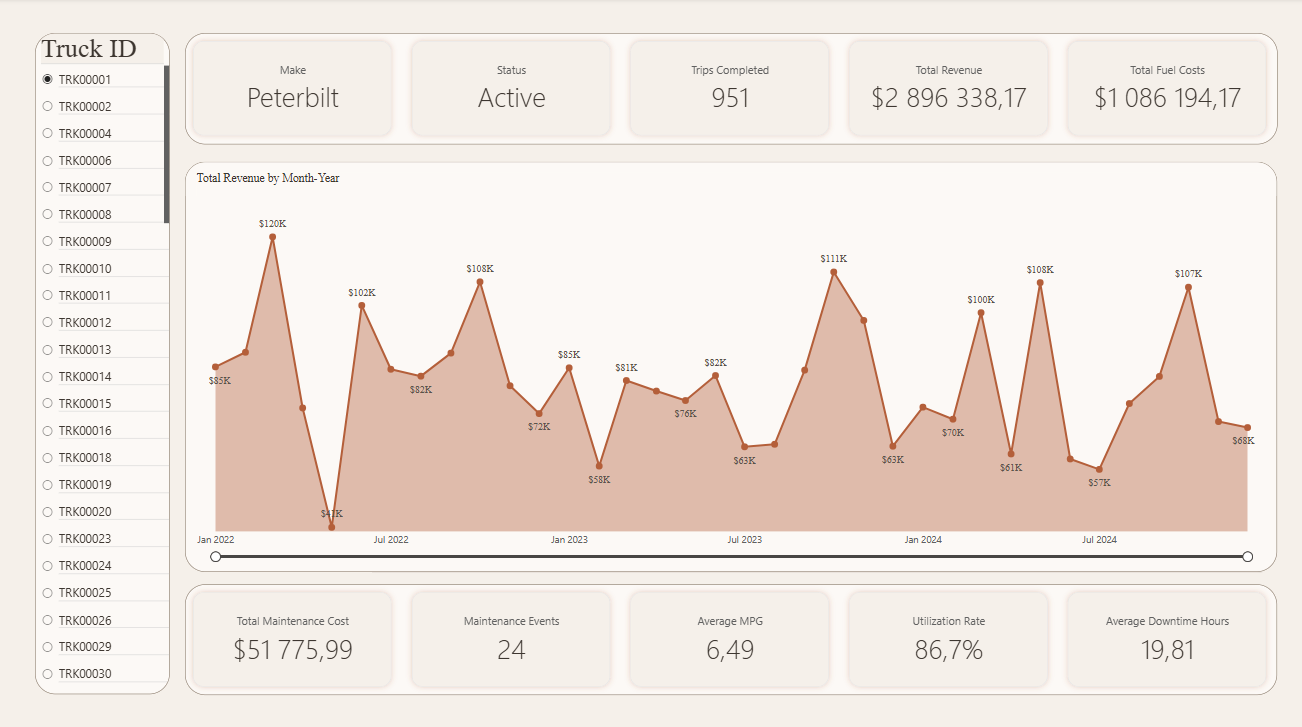

The dashboard page shown, as its layout file describes it:
{"tool":"powerbi","page":{"name":"Fleet","canvas":[1920,1080],"ordinal":3},"visuals":[{"type":"slicer","fields":{"Values":["dim_trucks.truck_id"]},"box":[51.5,51.5,198.8,973.6],"z":0},{"type":"cardVisual","fields":{"Data":["Min(dim_trucks.make)","Min(dim_trucks.status)","Sum(fact_truck_utilization_metrics.trips_completed)","Sum(fact_truck_utilization_metrics.total_revenue)","Sum(fact_fuel_purchases.total_cost)"]},"box":[272.4,51.5,1608.6,163.8],"z":1000},{"type":"lineChart","title":"Total Revenue by Month-Year","fields":{"Category":["fact_truck_utilization_metrics.month"],"Y":["Sum(fact_truck_utilization_metrics.total_revenue)"]},"box":[273.2,241.6,1607.7,604.1],"z":2000},{"type":"cardVisual","fields":{"Data":["Sum(fact_truck_utilization_metrics.maintenance_cost)","Sum(fact_truck_utilization_metrics.maintenance_events)","Avg(fact_truck_utilization_metrics.average_mpg)","Avg(fact_truck_utilization_metrics.utilization_rate)","Avg(fact_truck_utilization_metrics.downtime_hours)"]},"box":[273.2,862.4,1607.7,163.6],"z":3000}]}

Visuals, with their boxes in screenshot pixels (x1, y1, x2, y2), scaled from the page's 1920x1080 canvas onto the 1302x727 screenshot:
slicer - dim_trucks.truck_id: {"left": 35, "top": 35, "right": 170, "bottom": 690}
cardVisual - Min(dim_trucks.make) x Min(dim_trucks.status): {"left": 185, "top": 35, "right": 1276, "bottom": 145}
"Total Revenue by Month-Year" lineChart: {"left": 185, "top": 163, "right": 1275, "bottom": 569}
cardVisual - Sum(fact_truck_utilization_metrics.maintenance_cost) x Sum(fact_truck_utilization_metrics.maintenance_events): {"left": 185, "top": 581, "right": 1275, "bottom": 691}
